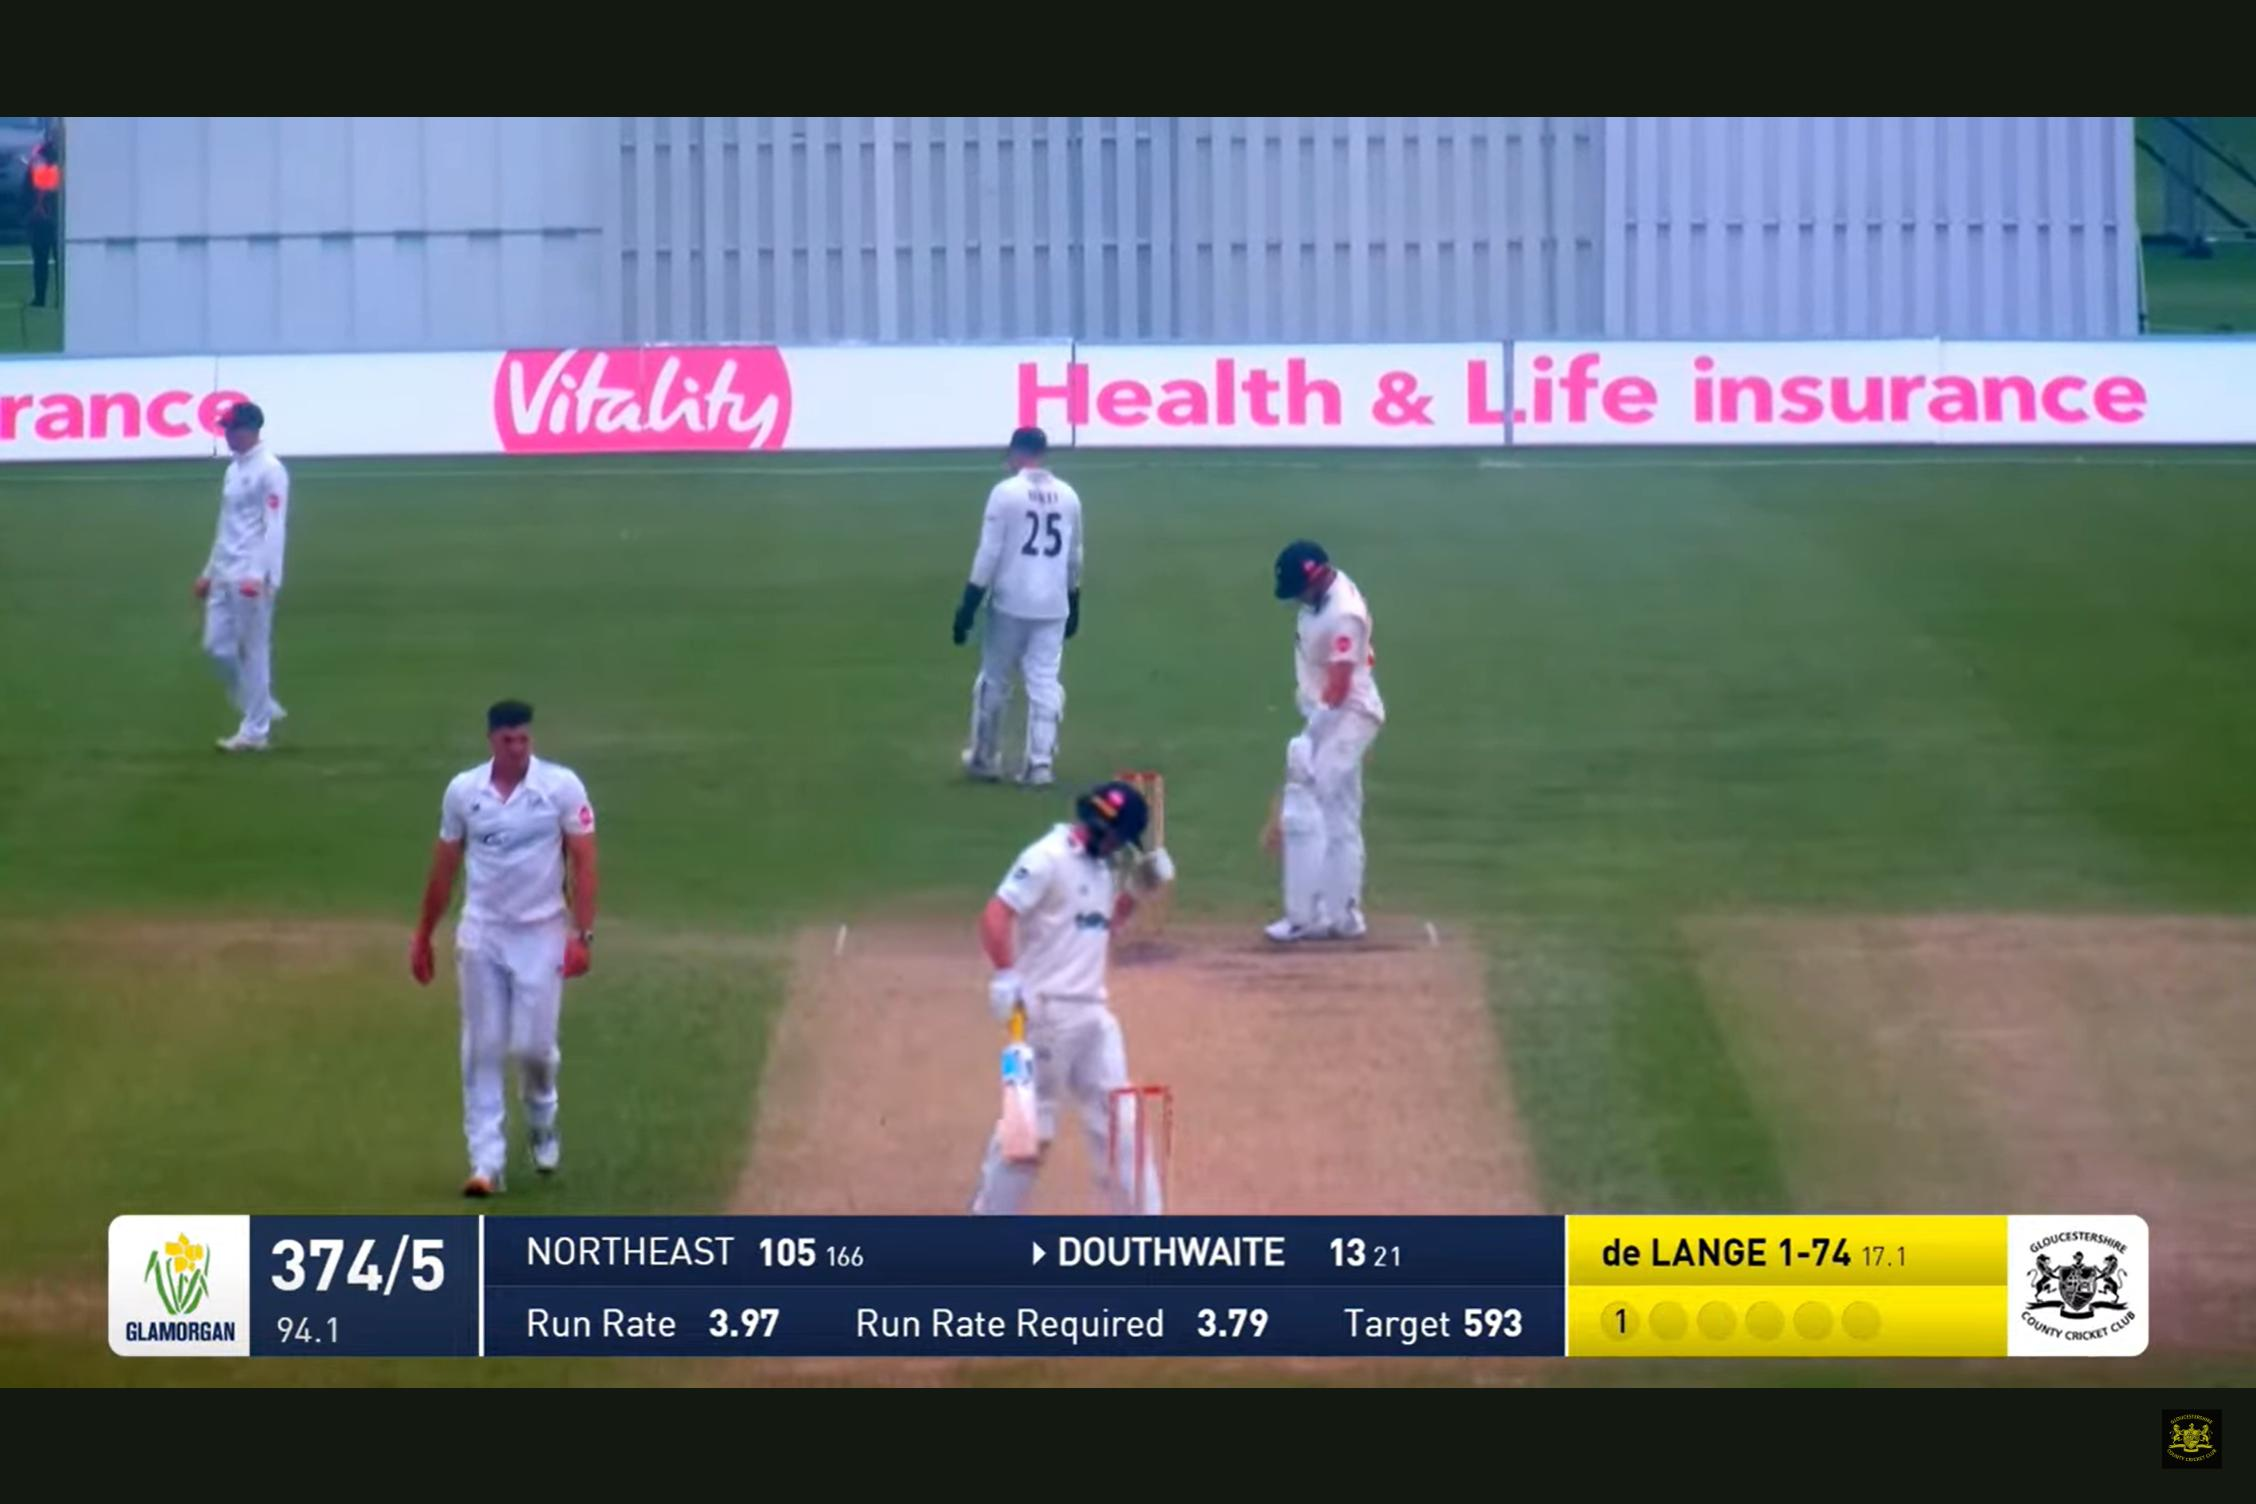batsman: (1257, 529, 1386, 928)
bowler walking back: (398, 651, 648, 1210)
wicket keeper: (938, 403, 1083, 792)
